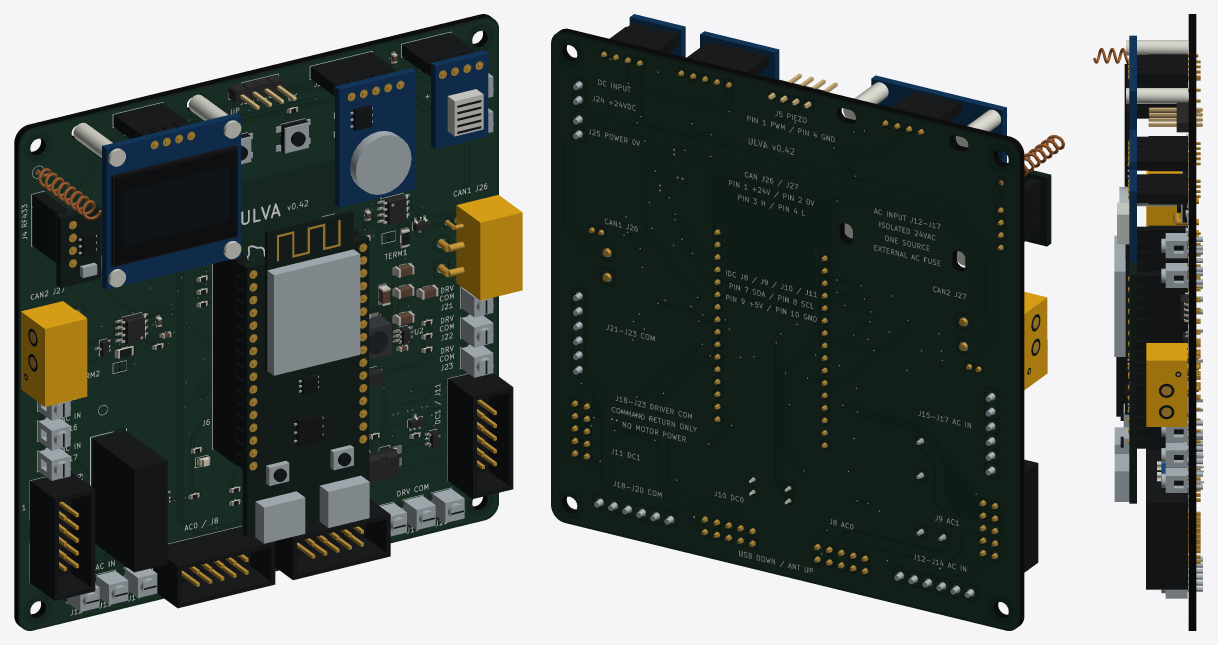
Rendered from board.glb.
3 renders of one model, left to right at view 1: azimuth 30°, elevation 25°; view 2: azimuth 150°, elevation 25°; view 3: azimuth 270°, elevation 25°, orthographic. The views are drawn at different scales.
Visible parts, largest first — view 1: board, module-esp32-c5, module-oled, module-rtc, K1, J11, J9, J8, J26, J27, J10, module-dht20 (+21 smaller); view 2: board, module-oled, J27, J9, module-rtc, module-rf433, J2, module-dht20, J1, J3, J4; view 3: module-esp32-c5, board, J11, J26, module-oled, J7, module-dht20, J2, J1, J3, J6, J5 (+15 smaller).
Part boxes in pixels (<box>): board: <box>14,14,498,630</box>; module-esp32-c5: <box>236,210,369,543</box>; module-oled: <box>73,94,241,289</box>; module-rtc: <box>335,67,416,207</box>; K1: <box>92,430,167,572</box>; J11: <box>448,373,513,498</box>; J9: <box>30,471,95,600</box>; J8: <box>153,526,275,608</box>; J26: <box>437,195,522,300</box>; J27: <box>21,301,87,406</box>; J10: <box>274,499,390,579</box>; module-dht20: <box>426,50,488,148</box>; board: <box>551,28,1024,630</box>; module-oled: <box>843,75,1007,265</box>; J27: <box>959,292,1047,389</box>; J9: <box>979,459,1038,572</box>; module-rtc: <box>700,31,779,79</box>; module-rf433: <box>1024,170,1051,246</box>; J2: <box>678,45,762,87</box>; module-dht20: <box>627,14,685,57</box>; J1: <box>601,27,673,65</box>; J3: <box>882,95,954,134</box>; J4: <box>997,182,1034,250</box>; module-esp32-c5: <box>1114,226,1148,503</box>; board: <box>1188,14,1196,630</box>; J11: <box>1146,486,1200,589</box>; J26: <box>1146,343,1198,426</box>; module-oled: <box>1124,35,1187,206</box>; J7: <box>1148,271,1200,449</box>; module-dht20: <box>1117,169,1148,262</box>; J2: <box>1148,136,1200,171</box>; J1: <box>1148,173,1200,204</box>; J3: <box>1148,54,1200,84</box>; J6: <box>1148,225,1200,396</box>; J5: <box>1148,102,1202,132</box>.
Bounding box in the file's own units: 0.1 × 0.1 × 0.0235.
